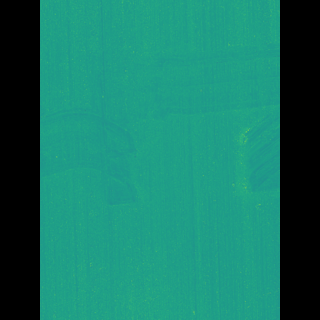Loch: (136, 48, 251, 208), (70, 92, 145, 208)
